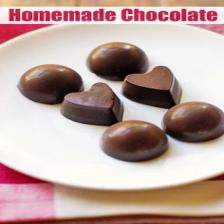brown: (17, 64, 84, 104)
